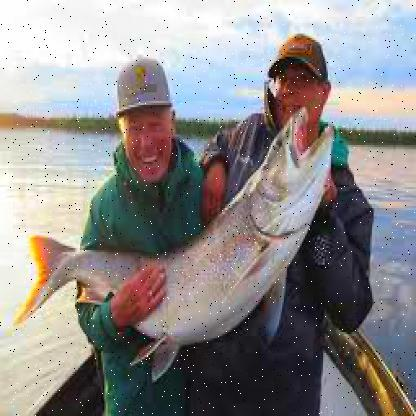fish: (11, 102, 330, 378)
